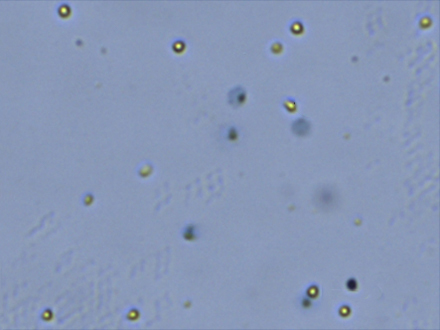A: (279, 97, 300, 113), (415, 14, 434, 31), (333, 301, 351, 318), (170, 37, 187, 54), (79, 189, 96, 206), (56, 1, 72, 18), (288, 18, 305, 34), (136, 160, 152, 177), (39, 305, 56, 321), (303, 282, 320, 298), (125, 305, 141, 321), (267, 38, 282, 54)
D: (224, 84, 248, 107), (289, 115, 313, 137), (181, 221, 198, 241), (343, 275, 360, 292), (223, 125, 238, 143), (298, 297, 313, 310)
